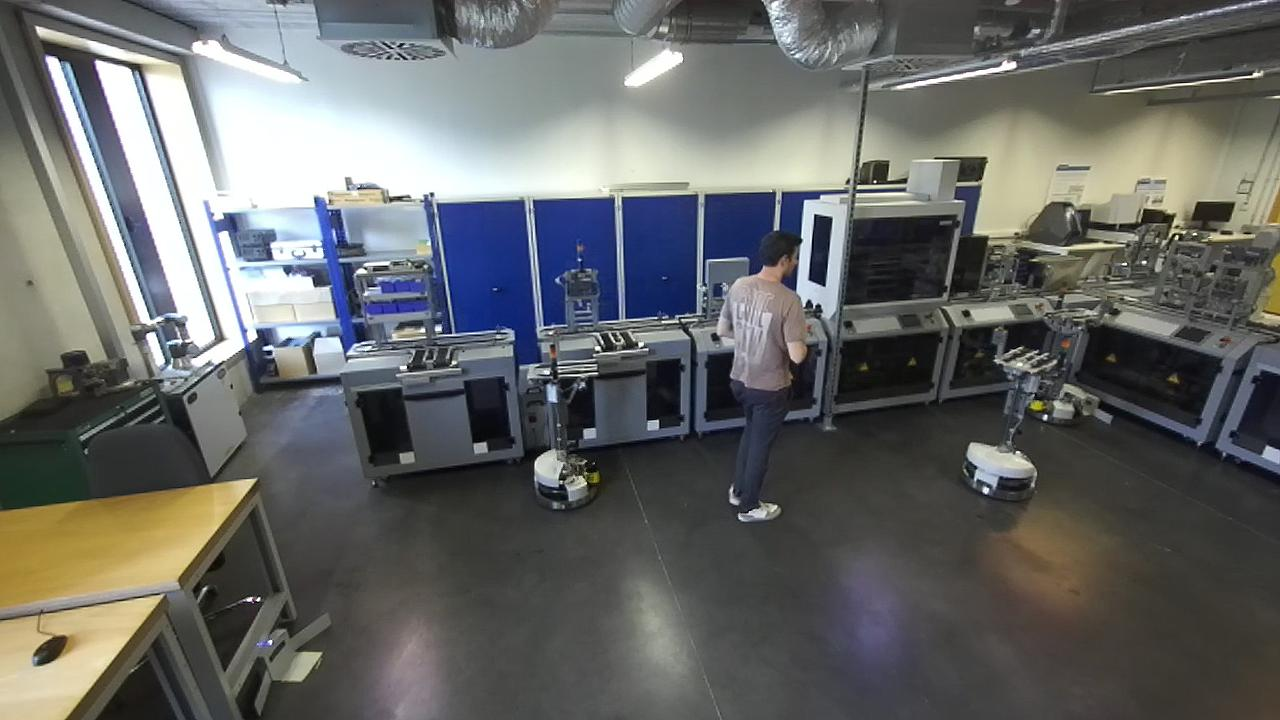AMR: (963, 326, 1068, 505), (522, 331, 603, 511), (1027, 279, 1102, 425)
Human: (714, 226, 809, 522)
